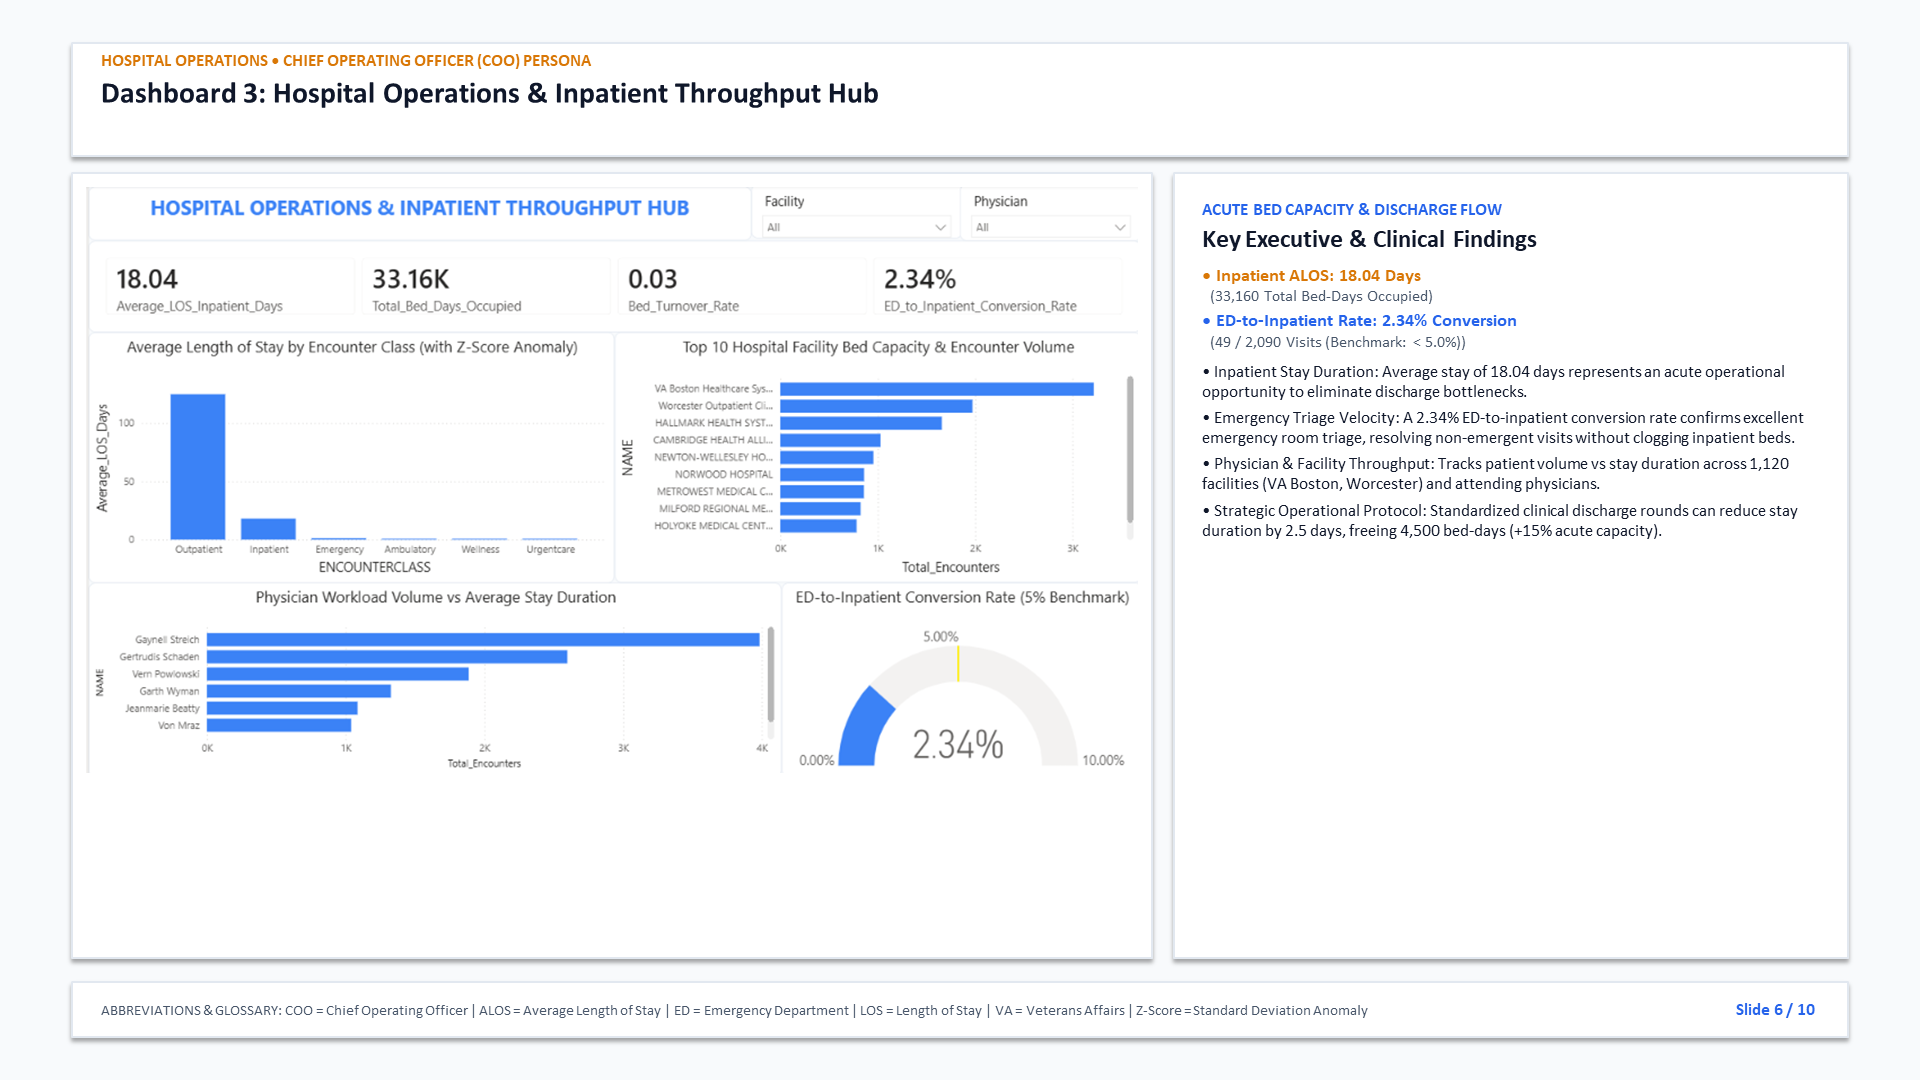

The dashboard page shown, as its layout file describes it:
{"tool":"powerbi","page":{"name":"Hospital Operations (COO)","canvas":[1280,720],"ordinal":2},"visuals":[{"type":"cardVisual","fields":{"Data":["_Measures.Average_LOS_Inpatient_Days","_Measures.Total_Bed_Days_Occupied","_Measures.Bed_Turnover_Rate","_Measures.ED_to_Inpatient_Conversion_Rate"]},"box":[0,68.6,1278.9,111.1],"z":0},{"type":"clusteredColumnChart","title":"Average Length of Stay by Encounter Class (with Z-Score Anomaly)","fields":{"Category":["Fact_Encounters.ENCOUNTERCLASS"],"Y":["_Measures.Average_LOS_Days"]},"box":[0,179.8,639.5,304.6],"z":1000},{"type":"clusteredBarChart","title":"Top 10 Hospital Facility Bed Capacity & Encounter Volume","fields":{"Category":["Dim_Organizations.NAME"],"Y":["_Measures.Total_Encounters"]},"box":[640,180,640,304],"z":2000},{"type":"clusteredBarChart","title":"Physician Workload Volume vs Average Stay Duration","fields":{"Category":["Dim_Providers.NAME"],"Y":["_Measures.Total_Encounters"]},"box":[0,484.4,842.5,236],"z":3000},{"type":"gauge","title":"ED-to-Inpatient Conversion Rate (5% Benchmark)","fields":{"Y":["_Measures.ED_to_Inpatient_Conversion_Rate"]},"box":[842,484,438,236],"z":4000},{"type":"slicer","fields":{"Values":["Dim_Organizations.NAME"]},"box":[805.5,0,256.6,65.9],"z":5000},{"type":"slicer","fields":{"Values":["Dim_Providers.NAME"]},"box":[1059.4,0,220.9,68.6],"z":6000},{"type":"textbox","box":[0,2.7,805.5,65.9],"z":7000}]}

Visuals, with their boxes in screenshot pixels (x1, y1, x2, y2), scaled from the page's 1280x720 canvas onto the 1920x1080 screenshot:
cardVisual - _Measures.Average_LOS_Inpatient_Days x _Measures.Total_Bed_Days_Occupied: (left=0, top=103, right=1918, bottom=270)
"Average Length of Stay by Encounter Class (with Z-Score Anomaly)" clusteredColumnChart: (left=0, top=270, right=959, bottom=727)
"Top 10 Hospital Facility Bed Capacity & Encounter Volume" clusteredBarChart: (left=960, top=270, right=1919, bottom=726)
"Physician Workload Volume vs Average Stay Duration" clusteredBarChart: (left=0, top=727, right=1264, bottom=1079)
"ED-to-Inpatient Conversion Rate (5% Benchmark)" gauge: (left=1263, top=726, right=1919, bottom=1079)
slicer - Dim_Organizations.NAME: (left=1208, top=0, right=1593, bottom=99)
slicer - Dim_Providers.NAME: (left=1589, top=0, right=1919, bottom=103)
textbox: (left=0, top=4, right=1208, bottom=103)
